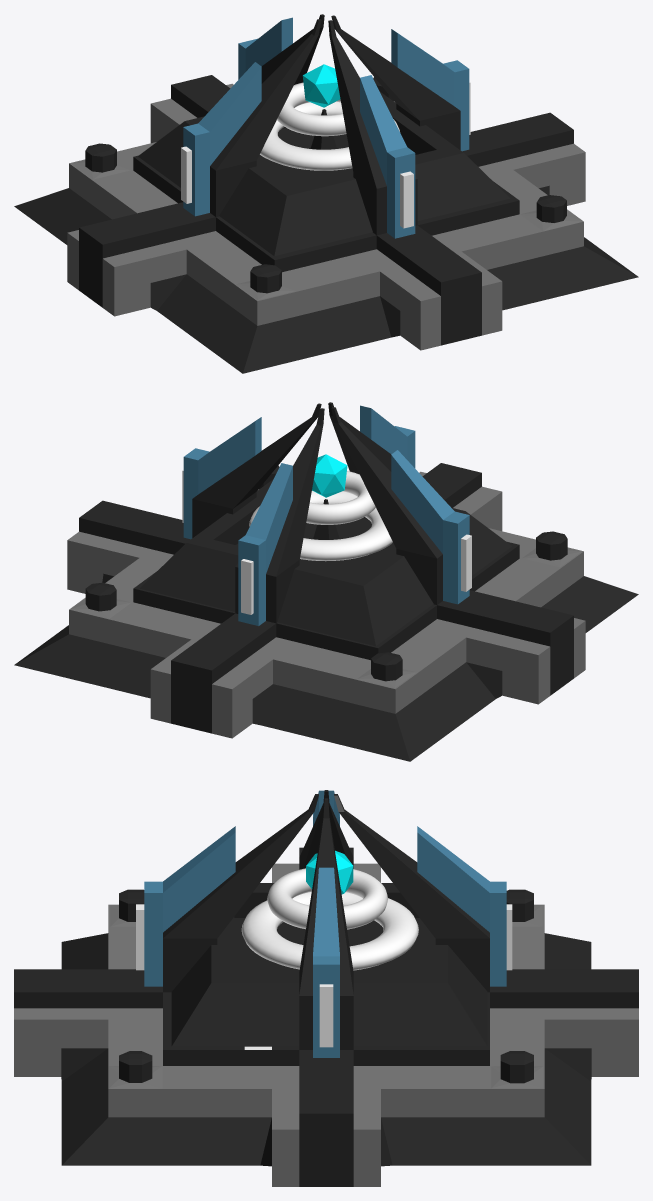
The model's file is MissileTower.fbx.
3 renders of one model, top to bottom at view 1: azimuth 30°, elevation 25°; view 2: azimuth 150°, elevation 25°; view 3: azimuth 270°, elevation 25°, orthographic. The views are drawn at different scales.
Visible parts, largest first — view 1: Base, FirstLayer, Torus.001, Torus, Icosphere; view 2: Base, FirstLayer, Torus.001, Torus, Icosphere; view 3: Base, FirstLayer, Torus.001, Torus, Icosphere.
Part boxes in pixels (bbox=[...]): Base: bbox=[14, 14, 638, 373]; FirstLayer: bbox=[138, 91, 510, 256]; Torus.001: bbox=[260, 101, 400, 170]; Torus: bbox=[277, 82, 346, 136]; Icosphere: bbox=[302, 64, 340, 107]; Base: bbox=[14, 402, 638, 761]; FirstLayer: bbox=[140, 479, 512, 646]; Torus.001: bbox=[249, 491, 392, 561]; Torus: bbox=[306, 471, 375, 524]; Icosphere: bbox=[312, 454, 347, 497]; Base: bbox=[14, 790, 638, 1186]; FirstLayer: bbox=[171, 883, 487, 1046]; Torus.001: bbox=[241, 892, 418, 970]; Torus: bbox=[267, 868, 387, 929]; Icosphere: bbox=[306, 850, 353, 894].
Bounding box in the file's own units: 2000 × 907 × 1986.
